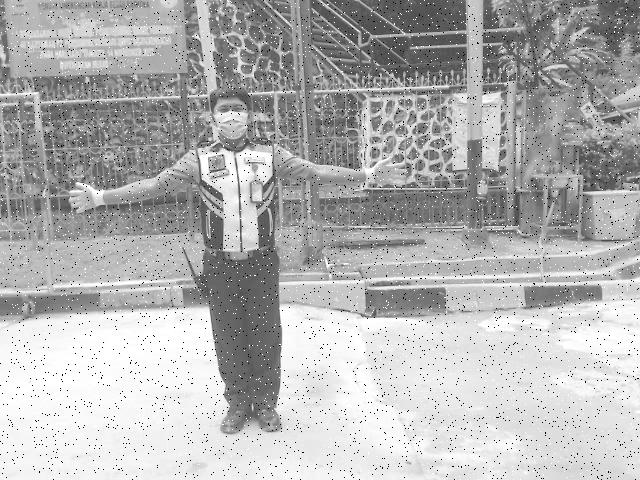gloves: (362, 155, 410, 191), (65, 179, 110, 217)
mask: (214, 114, 248, 139)
safety-shoes: (219, 404, 254, 436), (254, 407, 282, 436)
